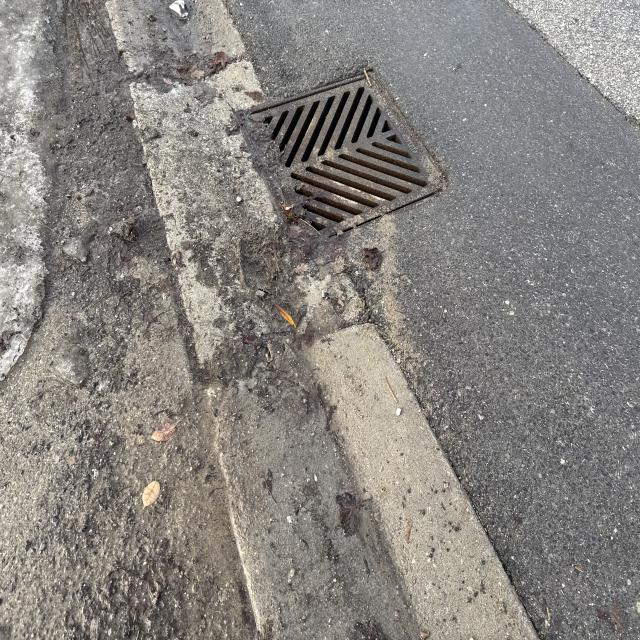Manhole: (228, 67, 452, 251)
